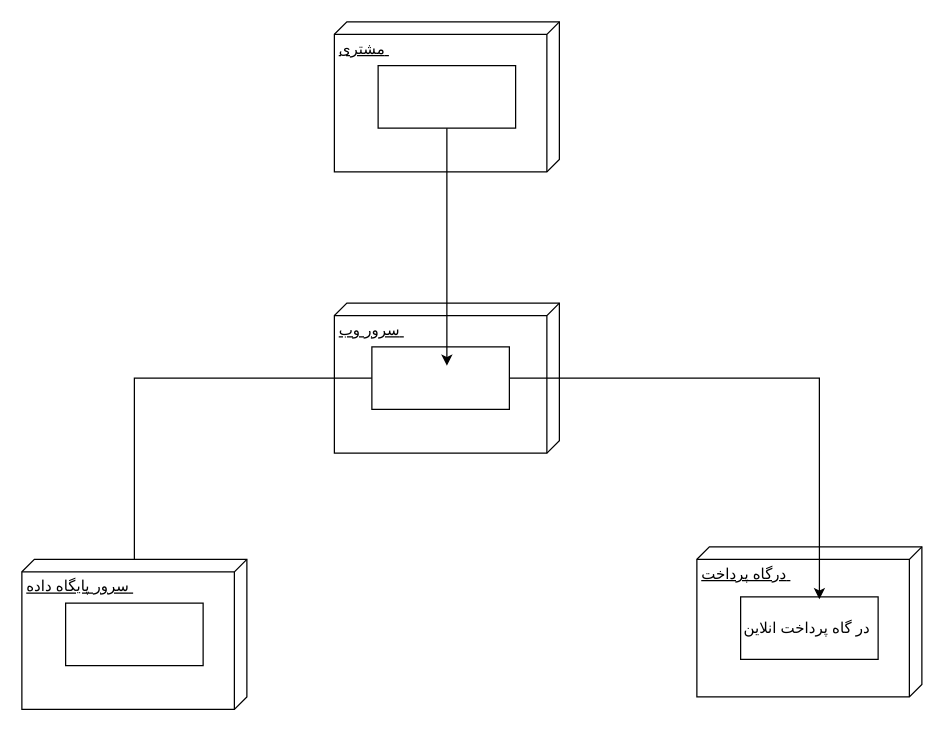
Image size: 944x731. Some labels were removed from this diagram. Each missing label, with the centre of its shape:
"my sqlپایگاه داده" belongs at point 133,634.
"برنامه وب" belongs at point 440,377.
"مرورگر" belongs at point 446,96.
